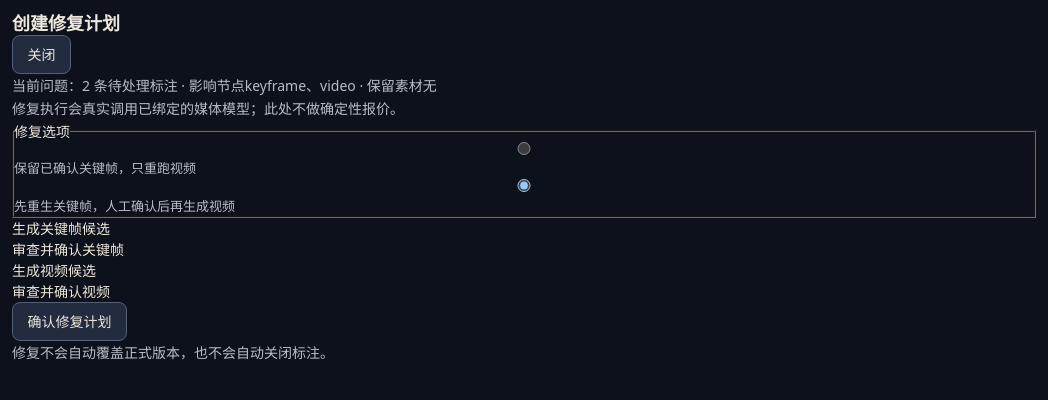
Test: RepairPlanPanel › surfaces a stale plan instead of silently confirming it
What coordinates should you click on to do the following:
click the button with test id "repair-confirm"
I would click on:
 (69, 322)
Its box is [12, 302, 127, 341].
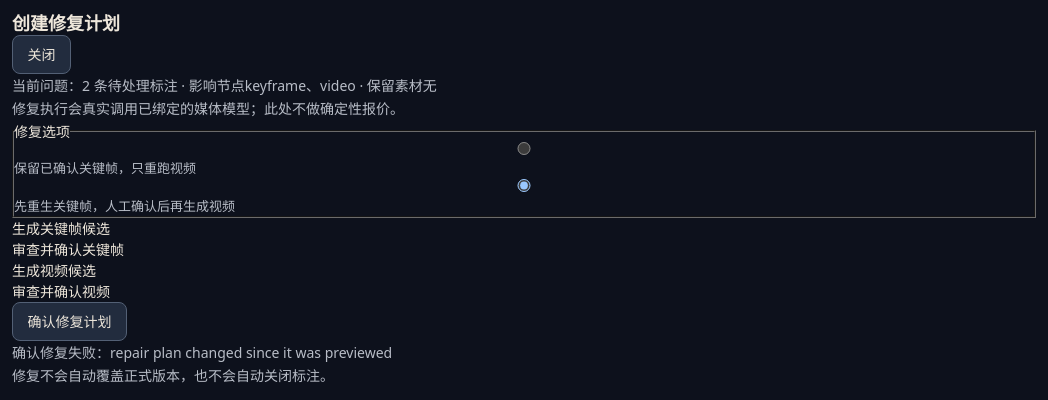
Expected: the message with test id "repair-feedback" shows "确认修复失败", [12, 343, 392, 362]
